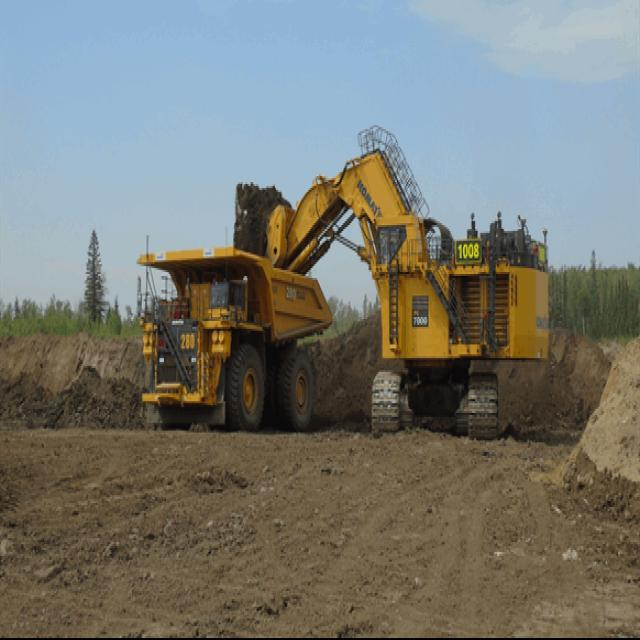dump_truck: (134, 241, 331, 454)
excavator: (231, 113, 577, 464)
